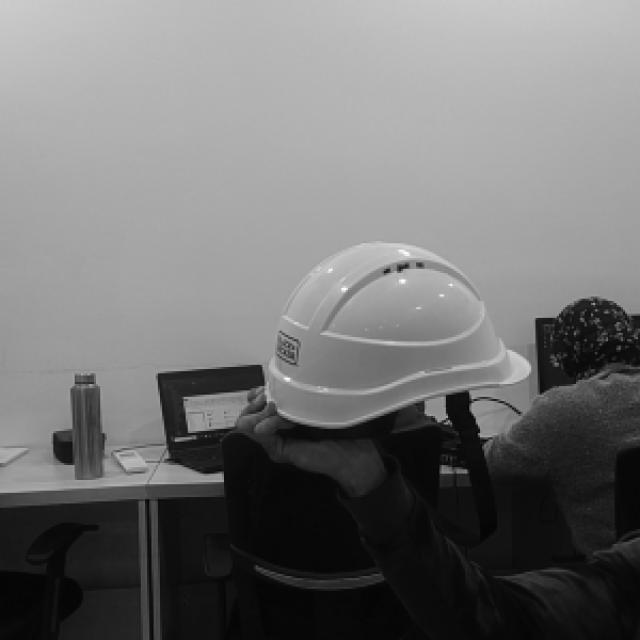safety_helmet: (269, 241, 531, 427)
